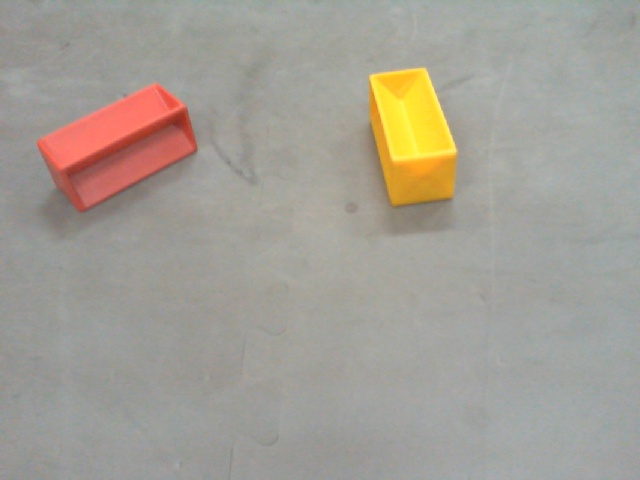RedSample: (37, 83, 201, 214)
YellowSample: (365, 64, 459, 211)
